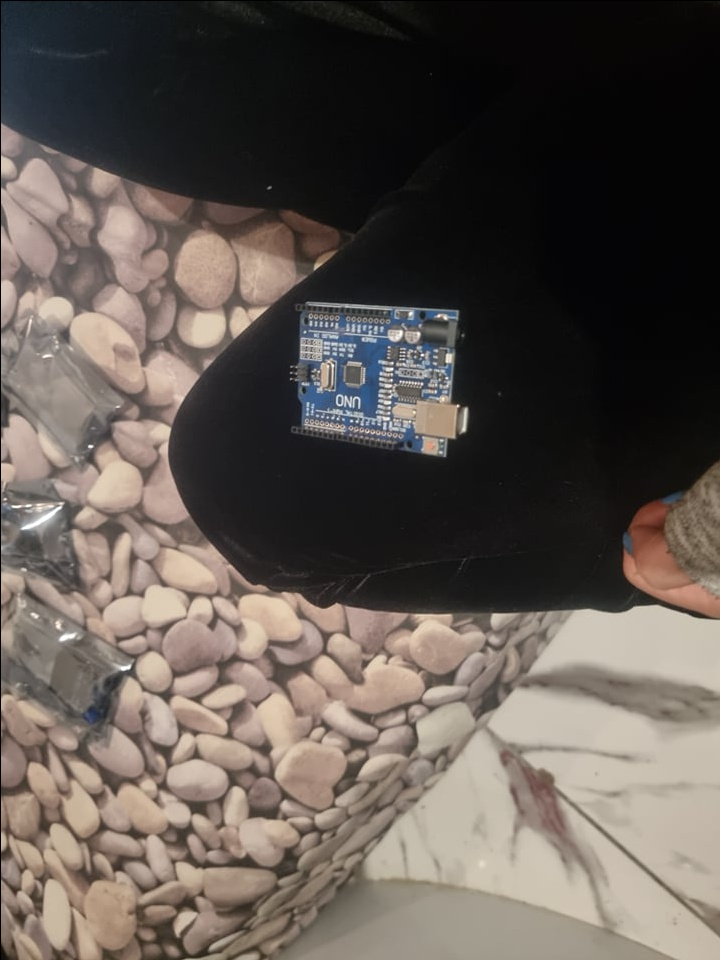UNO R3: (288, 297, 467, 460)
